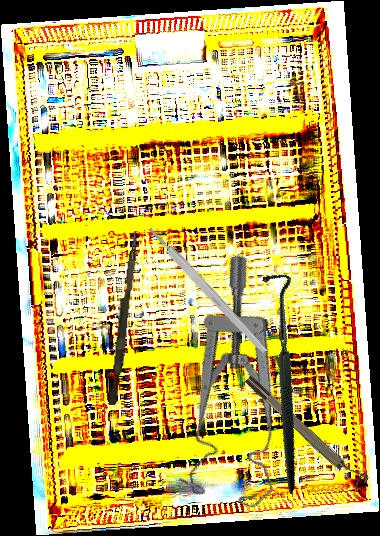Fixation Ring: (242, 368, 371, 493)
Hook Surgical: (185, 266, 375, 495)
Pusher: (108, 230, 139, 406)
Scalpel Handle: (146, 224, 269, 356)
Speculum: (131, 250, 358, 524)
